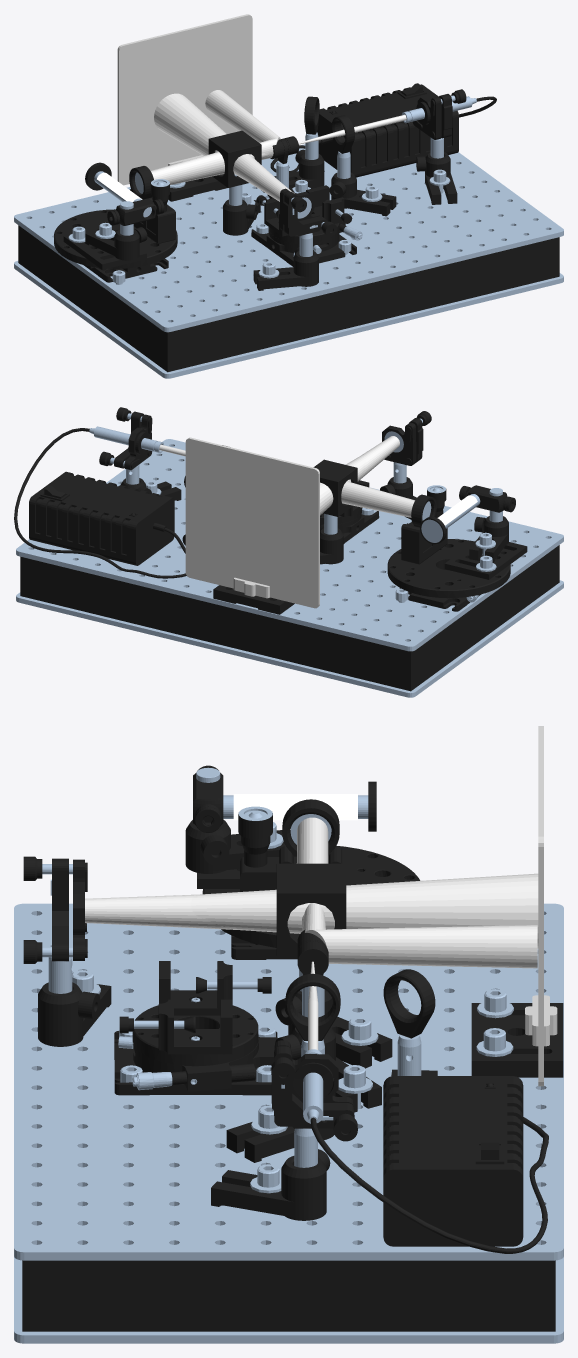
3 views of the same model, one above another, from view 1: azimuth 30°, elevation 25°; view 2: azimuth 150°, elevation 25°; view 3: azimuth 270°, elevation 25° (orthographic). The views are drawn at different scales.
Visible parts, largest first — view 1: Base, Screen, SD5, ThermalMirror, Mirror1, Laser, LEDLightWhite, BS_cube, Lens, RotaryStageHeater, RotaryStage, TranslateMirror (+6 smaller); view 2: Base, Screen, SD5, ThermalMirror, RotaryStageHeater, Laser, BS_cube, Mirror1, TranslateMirror, LEDLightRed, LaserBeam, LEDLightWhite (+1 smaller); view 3: Base, SD5, LEDLightWhite, Laser, RotaryStage, LaserBeamBS, Mirror1, ThermalMirror, Screen, BS_cube, TranslateMirror, Lens (+6 smaller).
Boxes of the visible parts, box(x1,y1,x2,y2) form: Base: box(14, 96, 563, 378); Screen: box(117, 14, 252, 201); SD5: box(317, 83, 458, 177); ThermalMirror: box(63, 162, 164, 269); Mirror1: box(253, 188, 337, 290); Laser: box(402, 89, 476, 204); LEDLightWhite: box(154, 93, 273, 182); BS_cube: box(208, 130, 261, 235); Lens: box(329, 115, 396, 216); RotaryStageHeater: box(54, 209, 177, 268); RotaryStage: box(256, 185, 352, 243); TranslateMirror: box(129, 166, 175, 243); Base: box(14, 428, 563, 697); Screen: box(185, 437, 319, 614); SD5: box(29, 471, 174, 565); ThermalMirror: box(420, 485, 527, 579); RotaryStageHeater: box(387, 539, 510, 598); Laser: box(89, 407, 181, 500); BS_cube: box(313, 459, 357, 564); Mirror1: box(380, 411, 443, 519); TranslateMirror: box(401, 485, 447, 564); LEDLightRed: box(341, 481, 414, 517); LaserBeam: box(159, 436, 399, 481); LEDLightWhite: box(320, 456, 365, 515); Base: box(14, 903, 563, 1343); SD5: box(383, 1076, 523, 1246); LEDLightWhite: box(191, 873, 538, 948); Laser: box(211, 1040, 357, 1220); RotaryStage: box(119, 961, 271, 1066); LaserBeamBS: box(303, 903, 537, 968); Mirror1: box(23, 856, 111, 1046); ThermalMirror: box(185, 765, 376, 888); Screen: box(471, 726, 563, 1086); BS_cube: box(275, 863, 392, 1068); TranslateMirror: box(238, 799, 342, 891); Lens: box(226, 973, 340, 1162).
Size of the model in its own units: 5.07 by 2.16 by 3.
